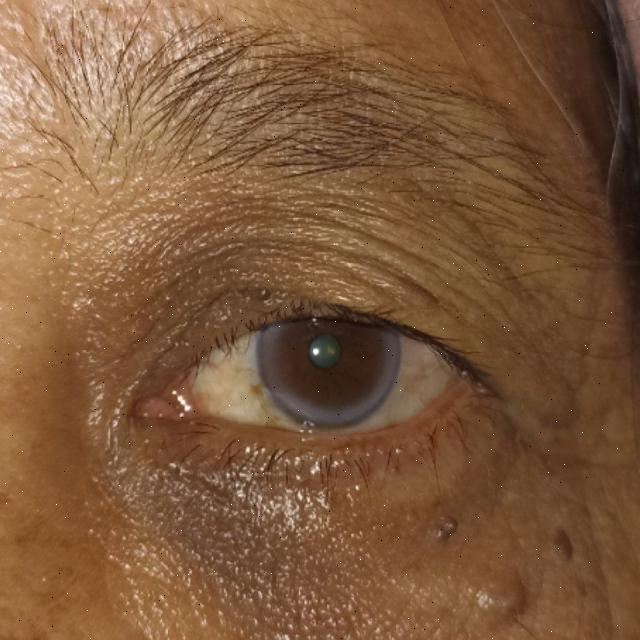Cataract: (260, 271, 400, 431)
